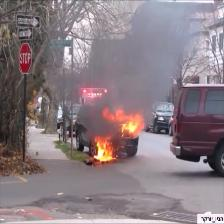fire: (91, 99, 152, 170)
smoke: (85, 0, 224, 105)
